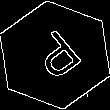P_SE: (23, 24, 87, 86)
